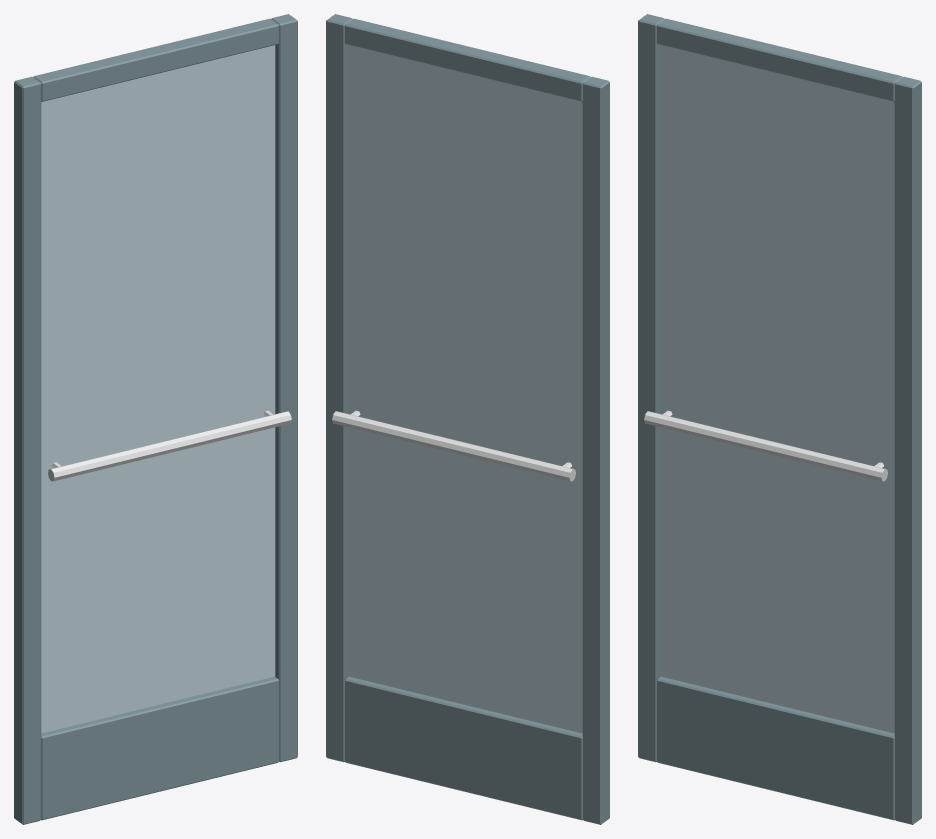
File: door_leaf_back.glb
3 views of the same model, side by side, from view 1: azimuth 30°, elevation 25°; view 2: azimuth 150°, elevation 25°; view 3: azimuth 330°, elevation 25° (orthographic).
Parts seen in each view (by area): view 1: door_leaf_back_glass, door_leaf_back_frame, door_leaf_back_chrome; view 2: door_leaf_back_glass, door_leaf_back_frame, door_leaf_back_chrome; view 3: door_leaf_back_glass, door_leaf_back_frame, door_leaf_back_chrome.
Part boxes in pixels (x1,y1,x2,y2): door_leaf_back_glass: (41,45,275,733); door_leaf_back_frame: (14,14,297,824); door_leaf_back_chrome: (48,410,291,481); door_leaf_back_glass: (348,45,582,733); door_leaf_back_frame: (326,14,609,824); door_leaf_back_chrome: (332,410,575,481); door_leaf_back_glass: (660,45,894,733); door_leaf_back_frame: (638,14,921,824); door_leaf_back_chrome: (644,410,887,481).
Bounding box in the file's own units: 0.86 × 2.2 × 0.186.
